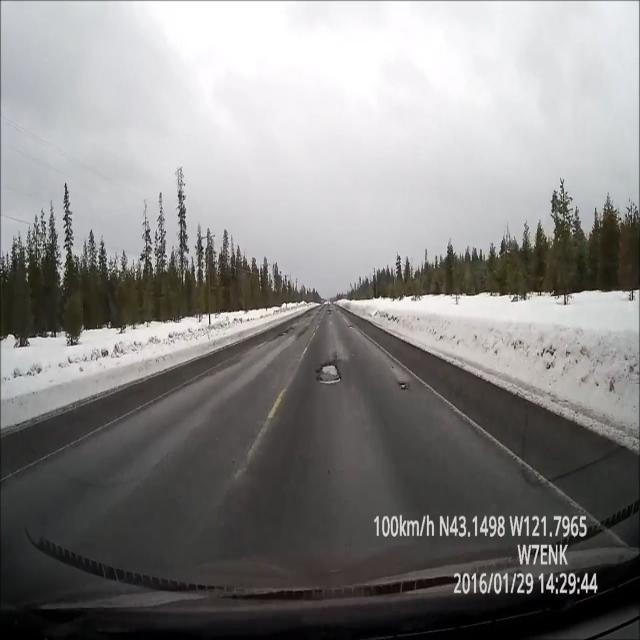Pothole: (312, 353, 344, 385), (394, 377, 416, 398)
